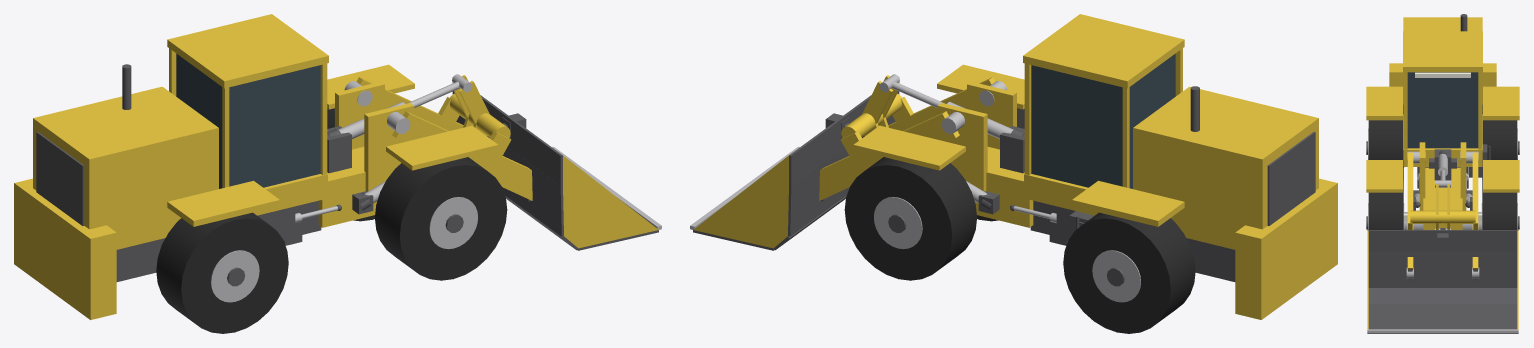
The model's file is SM_WheelLoader.fbx.
3 renders of one model, left to right at view 1: azimuth 30°, elevation 25°; view 2: azimuth 150°, elevation 25°; view 3: azimuth 270°, elevation 25°, orthographic. The views are drawn at different scales.
Parts seen in each view (by area): view 1: WL_RearFrame, WL_FrontFrame, WL_Wheel_FR, WL_Wheel_RR, WL_Bucket, WL_LiftArms, WL_TiltLever; view 2: WL_RearFrame, WL_FrontFrame, WL_Wheel_FL, WL_Wheel_RL, WL_Bucket, WL_LiftArms, WL_TiltLever; view 3: WL_Bucket, WL_RearFrame, WL_FrontFrame, WL_LiftArms, WL_Wheel_RR, WL_Wheel_FL, WL_Wheel_FR, WL_Wheel_RL, WL_TiltLever, WL_TiltCyl_Barrel.
Boxes of the visible parts, box(x1,y1,x2,y2) form: WL_RearFrame: box(14, 14, 328, 319); WL_FrontFrame: box(302, 64, 498, 234); WL_Wheel_FR: box(375, 157, 507, 280); WL_Wheel_RR: box(156, 212, 288, 333); WL_Bucket: box(452, 77, 661, 250); WL_LiftArms: box(356, 77, 532, 200); WL_TiltLever: box(452, 74, 489, 135); WL_RearFrame: box(1023, 14, 1337, 319); WL_FrontFrame: box(853, 64, 1049, 234); WL_Wheel_FL: box(844, 157, 976, 280); WL_Wheel_RL: box(1063, 212, 1195, 333); WL_Bucket: box(690, 77, 899, 250); WL_LiftArms: box(819, 77, 995, 200); WL_TiltLever: box(862, 74, 899, 135); WL_Bucket: box(1367, 230, 1518, 333); WL_RearFrame: box(1366, 14, 1519, 188); WL_FrontFrame: box(1366, 142, 1519, 229); WL_LiftArms: box(1406, 152, 1479, 278); WL_Wheel_RR: box(1366, 105, 1404, 179); WL_Wheel_FL: box(1481, 179, 1519, 229); WL_Wheel_FR: box(1366, 179, 1404, 229); WL_Wheel_RL: box(1482, 105, 1519, 179); WL_TiltLever: box(1435, 180, 1450, 229); WL_TiltCyl_Barrel: box(1438, 150, 1447, 175).
Bounding box in the file's own units: 966 × 386 × 330.
